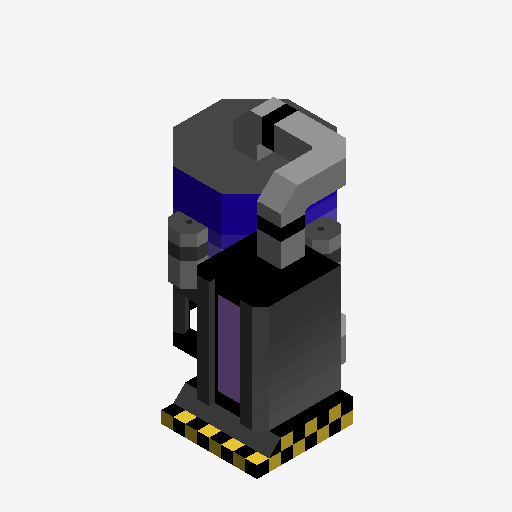
A Minecraft block model of 85 cuboids, rendered isometrically (azimuth 45°, elevation 35.3°) with the resource pack's own textures.
Visible parts, largest first — element 4, element 1, element 80, element 9, element 39, element 84, element 6, element 3, element 7, element 85, element 2, element 40 (+12 smaller).
Boxes of the visible parts, x1=… form: element 4: x1=198, y1=231, x2=340, y2=430; element 1: x1=161, y1=403, x2=352, y2=478; element 80: x1=250, y1=97, x2=344, y2=160; element 9: x1=209, y1=275, x2=255, y2=416; element 39: x1=173, y1=159, x2=231, y2=258; element 84: x1=257, y1=201, x2=304, y2=268; element 6: x1=197, y1=271, x2=216, y2=405; element 3: x1=174, y1=383, x2=280, y2=457; element 7: x1=252, y1=298, x2=268, y2=430; element 85: x1=274, y1=150, x2=345, y2=206; element 2: x1=185, y1=376, x2=352, y2=450; element 40: x1=221, y1=184, x2=265, y2=250.
Bounding box in the file's own units: 15.83 × 16.42 × 16.